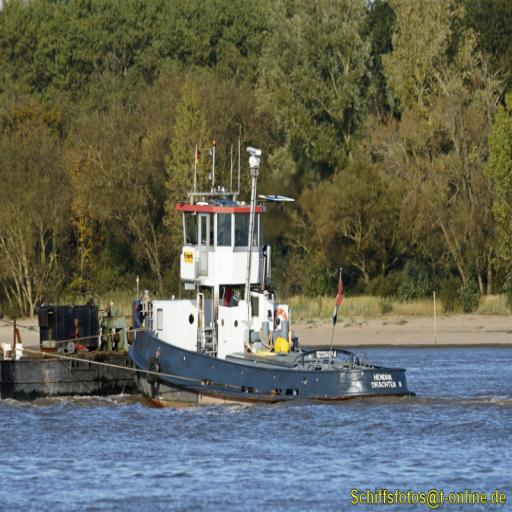tugboat: (126, 184, 420, 419)
